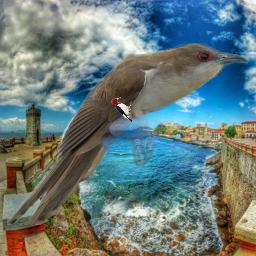Cuckoo: (7, 43, 248, 225)
Woodpecker: (111, 97, 132, 122)
